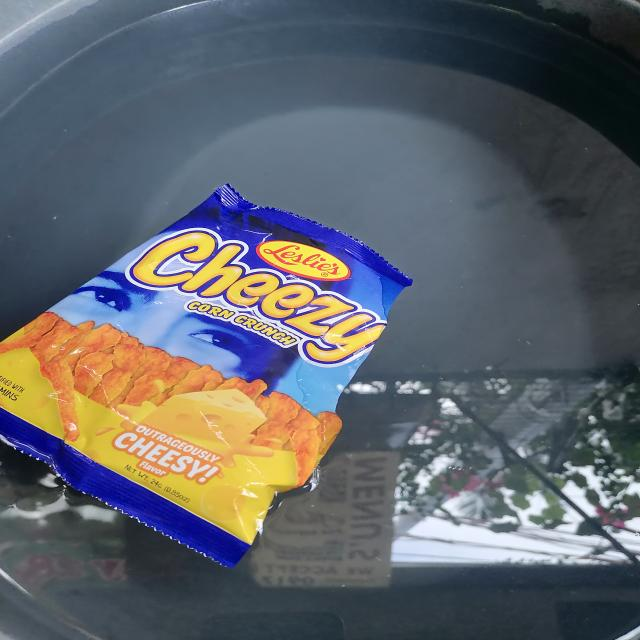Plastic Wrapper: (0, 163, 444, 578)
